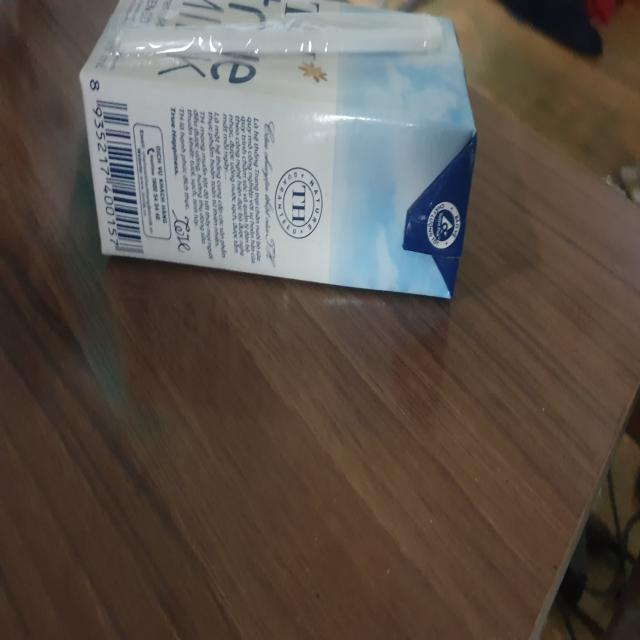TH: (81, 2, 479, 300)
